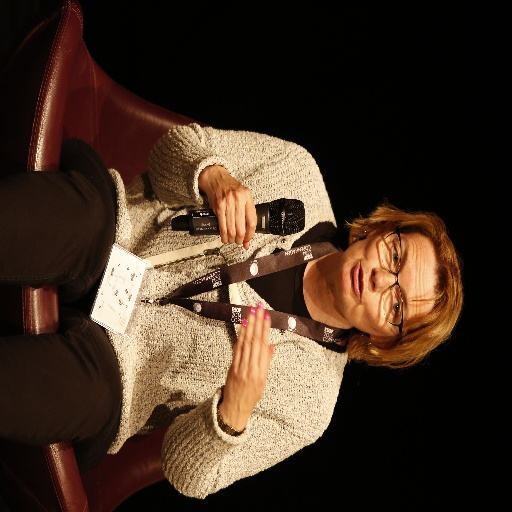hand: (214, 321, 282, 434), (204, 163, 258, 253)
